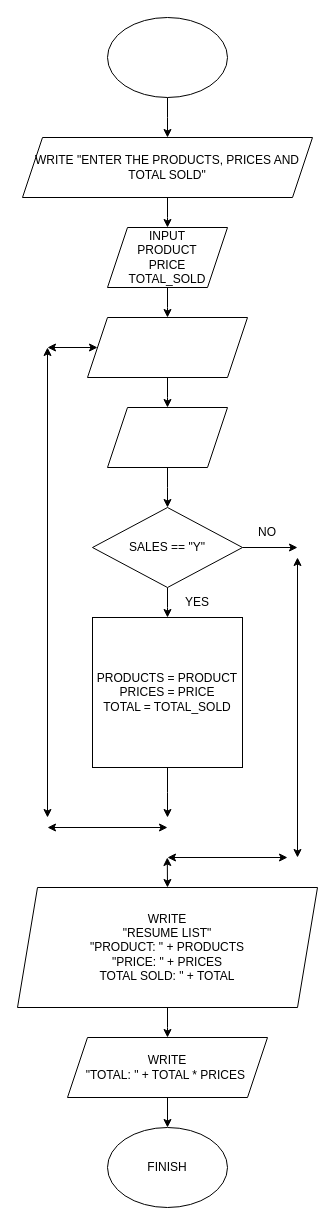
The diagram is 335 pixels wide and 1225 high, and some of its shapes have lost their labels. Each missing label, with the centre of its shape:
INIT: [167,57]
INPUT SALES: [167,437]
WRITE "REGISTER MORE SALES (Y/N)?": [167,347]
